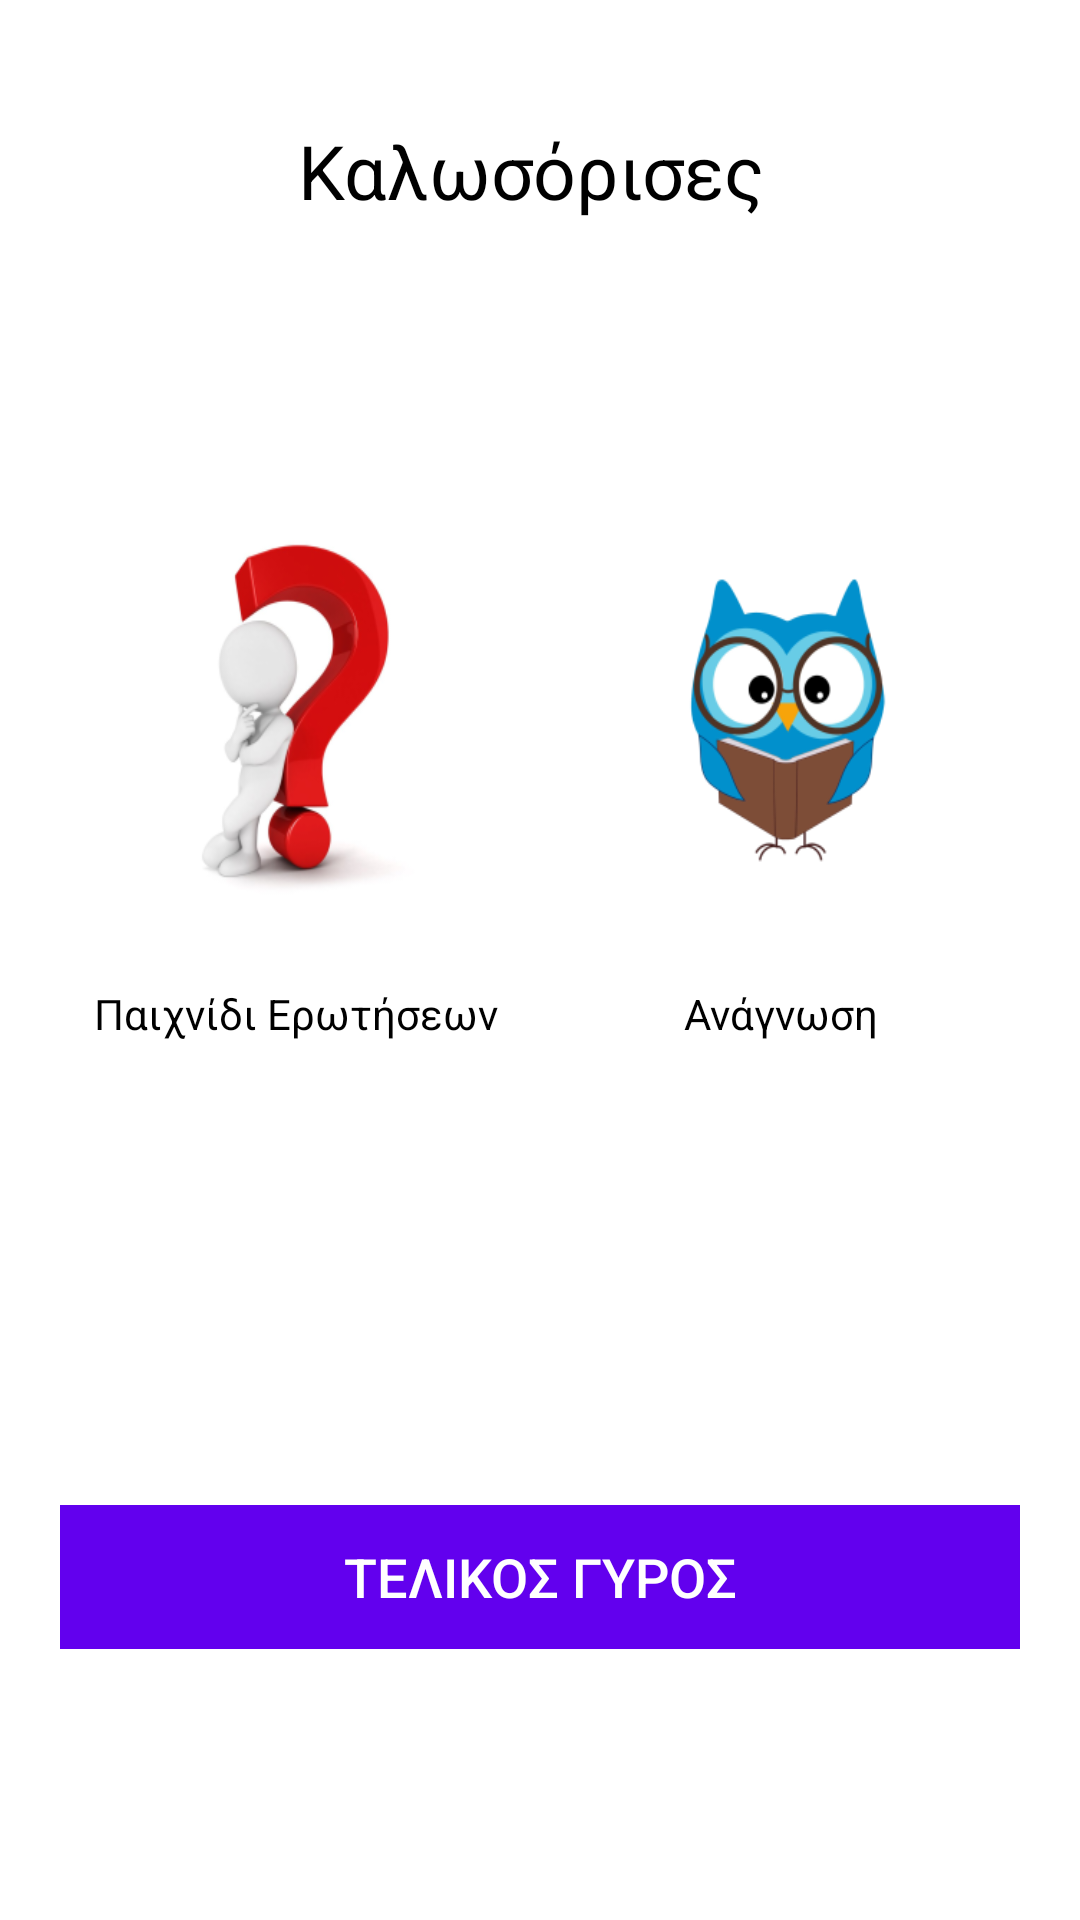

Icons on this 1080x1920 Android screen, each with its box as (x1, y1, x2, y2):
quiz: (204, 544, 389, 883)
reading: (691, 579, 886, 862)
